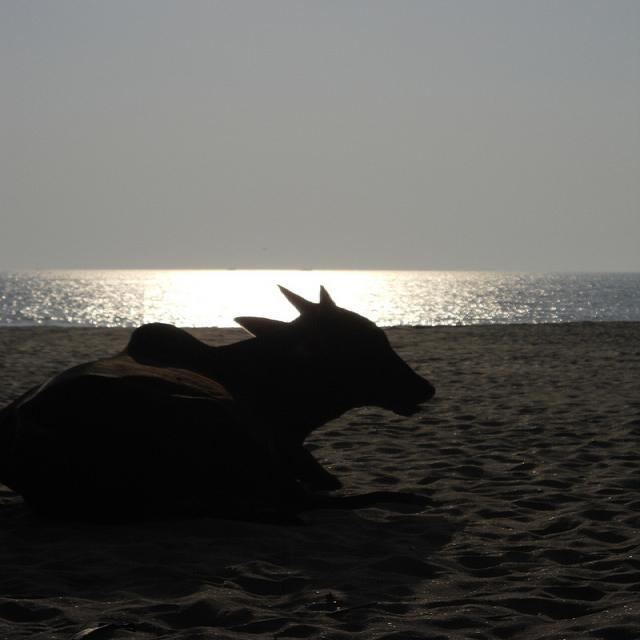cow: (0, 282, 433, 524)
